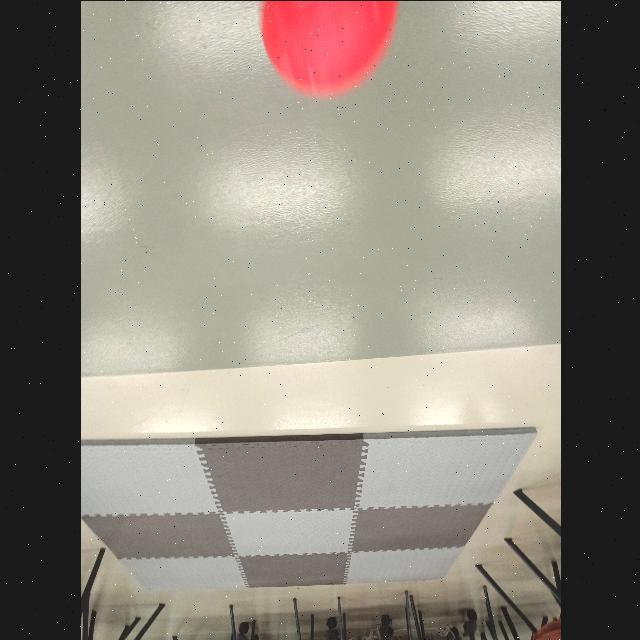R: (259, 0, 395, 94)
